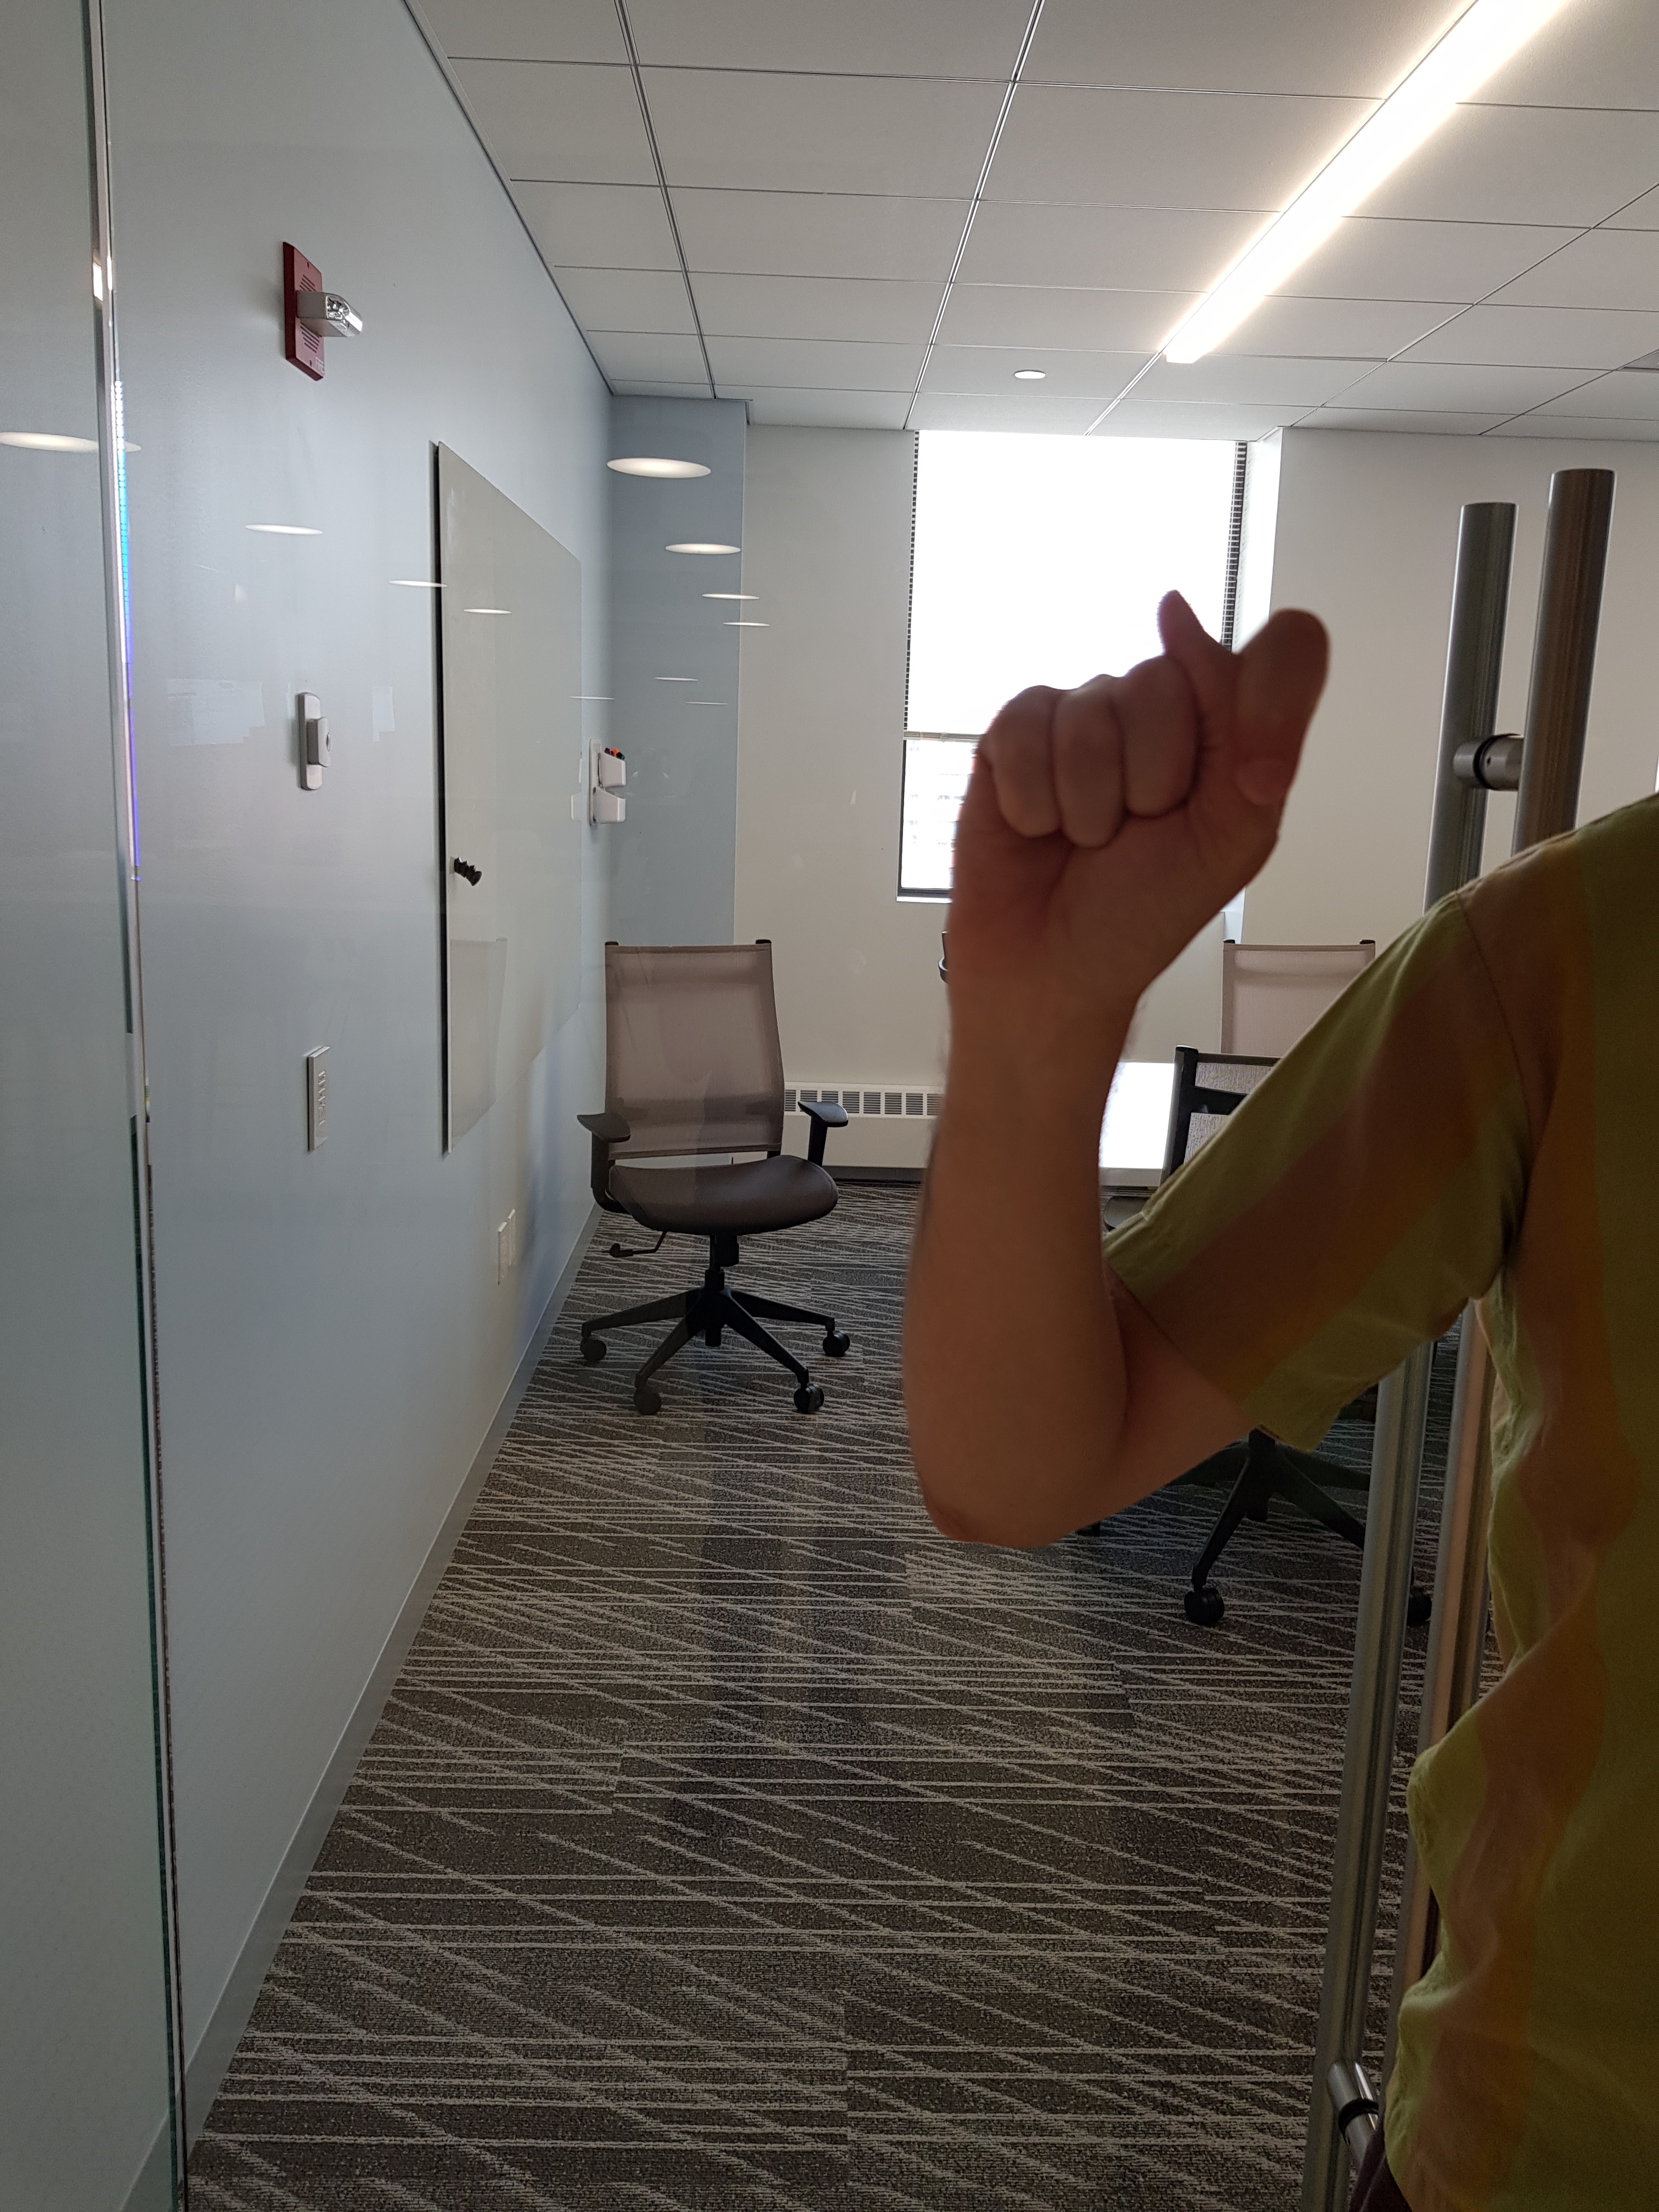t: (894, 566, 1356, 1028)
